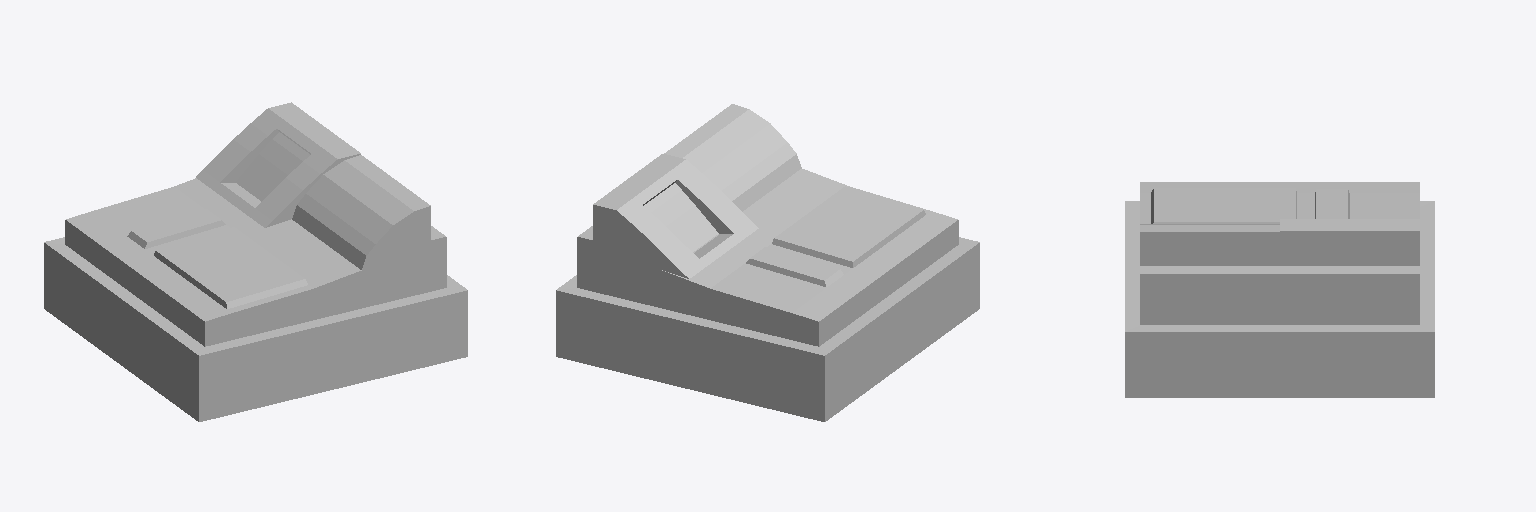
Rendered from cash_register.obj.
3 renders of one model, left to right at view 1: azimuth 30°, elevation 25°; view 2: azimuth 150°, elevation 25°; view 3: azimuth 270°, elevation 25°, orthographic.
Parts seen in each view (by area): view 1: Cube.006; view 2: Cube.006; view 3: Cube.006.
Boxes of the visible parts, x1,y1,x2,y2 form: Cube.006: [44, 102, 467, 421]; Cube.006: [556, 104, 979, 421]; Cube.006: [1125, 182, 1434, 397].
Size of the model in its own units: 1.27 by 0.6912 by 1.27.